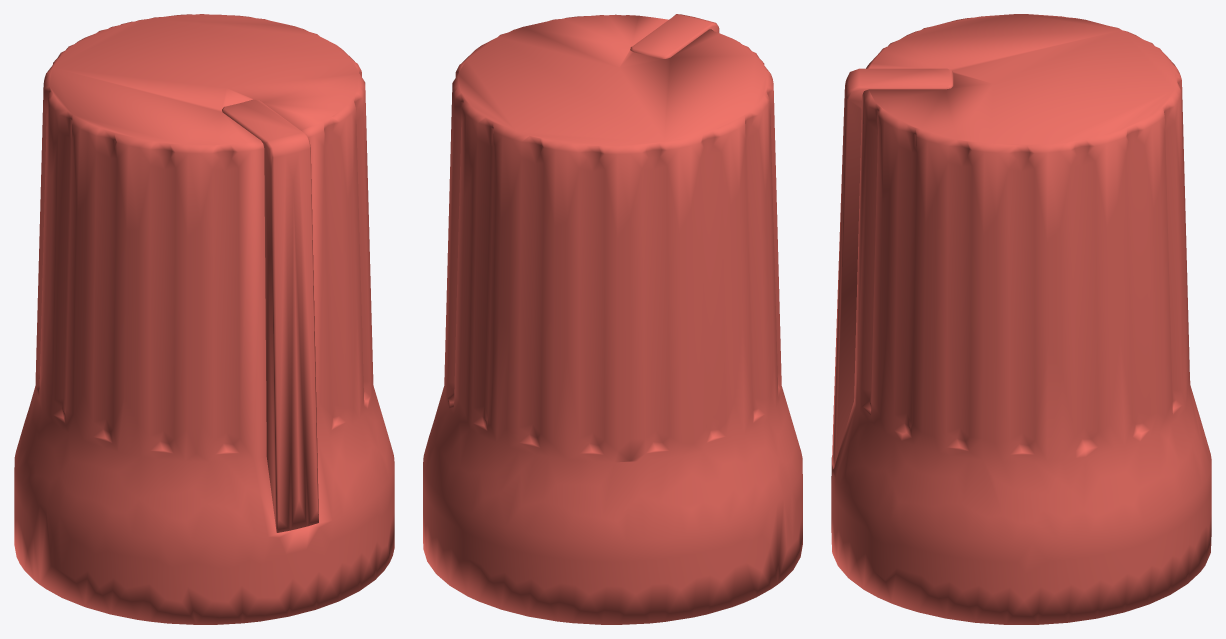
The model's file is knob_chroma.glb.
The picture shows the model from 3 angles, left to right: view 1: azimuth 30°, elevation 25°; view 2: azimuth 150°, elevation 25°; view 3: azimuth 270°, elevation 25°; orthographic projection.
Visible parts, largest first — view 1: chroma; view 2: chroma; view 3: chroma.
Part boxes in pixels (box(x1,y1,x2,y2)): chroma: box(14, 14, 394, 624); chroma: box(423, 14, 802, 624); chroma: box(831, 14, 1211, 624).
Bounding box in the file's own units: 14.53 × 19.7 × 14.54.
